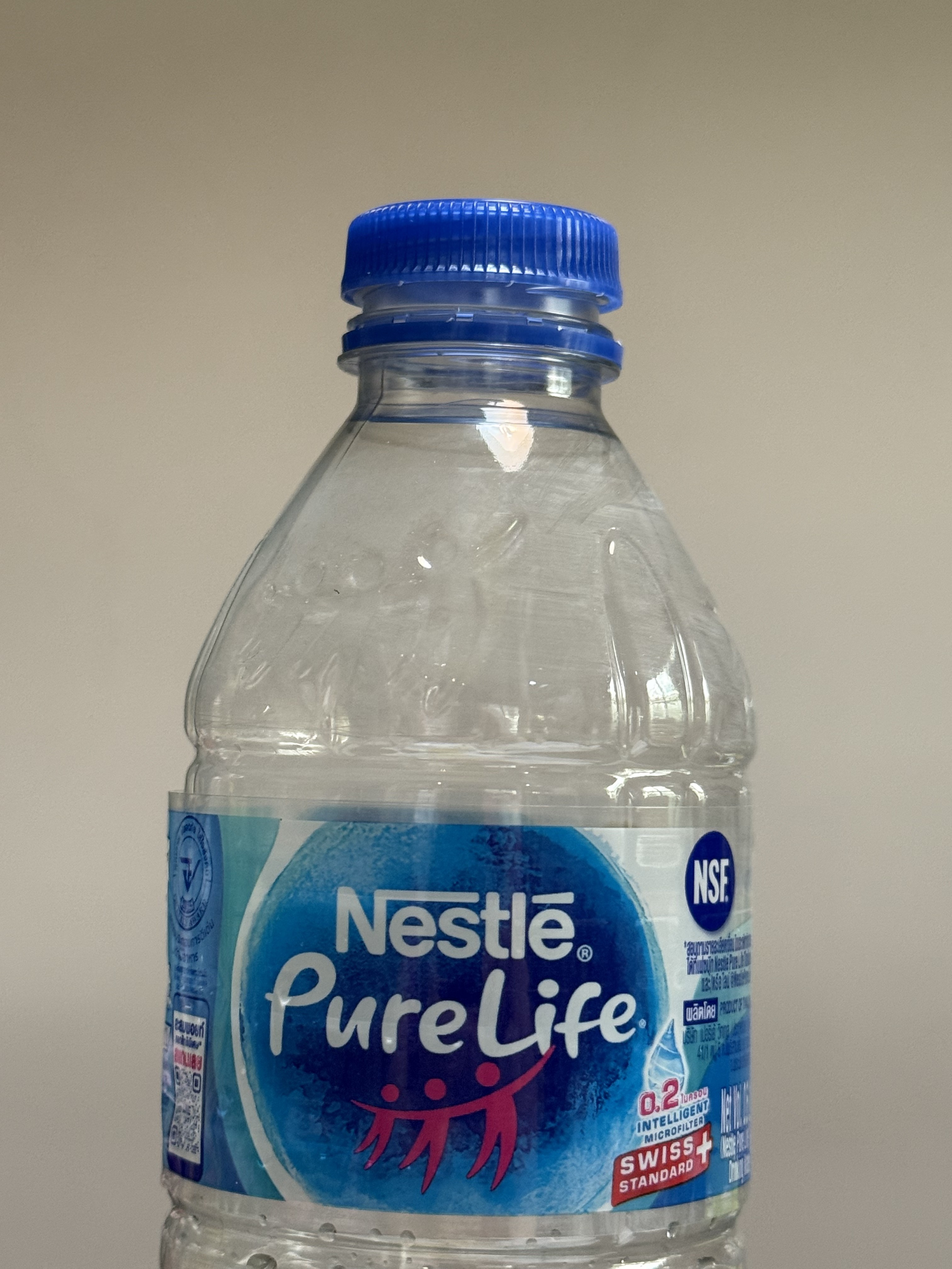half_cap: (330, 191, 630, 379)
